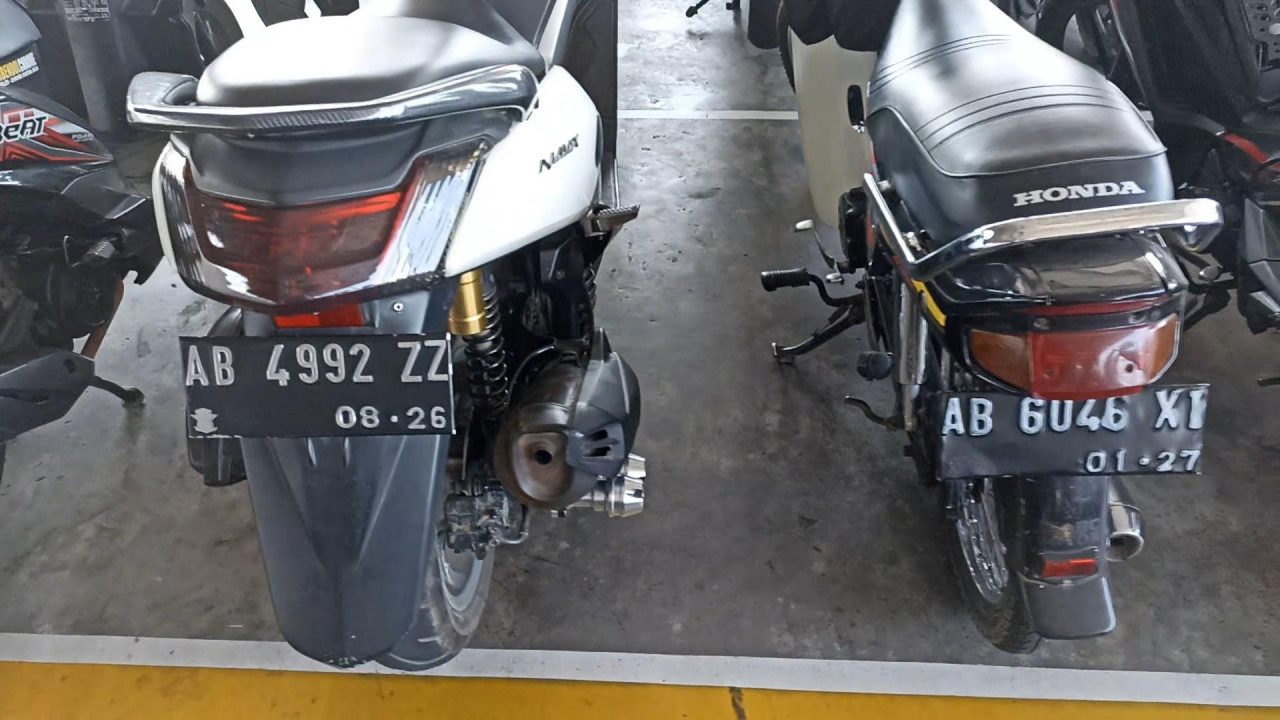plate: (181, 331, 455, 440), (941, 384, 1209, 479)
